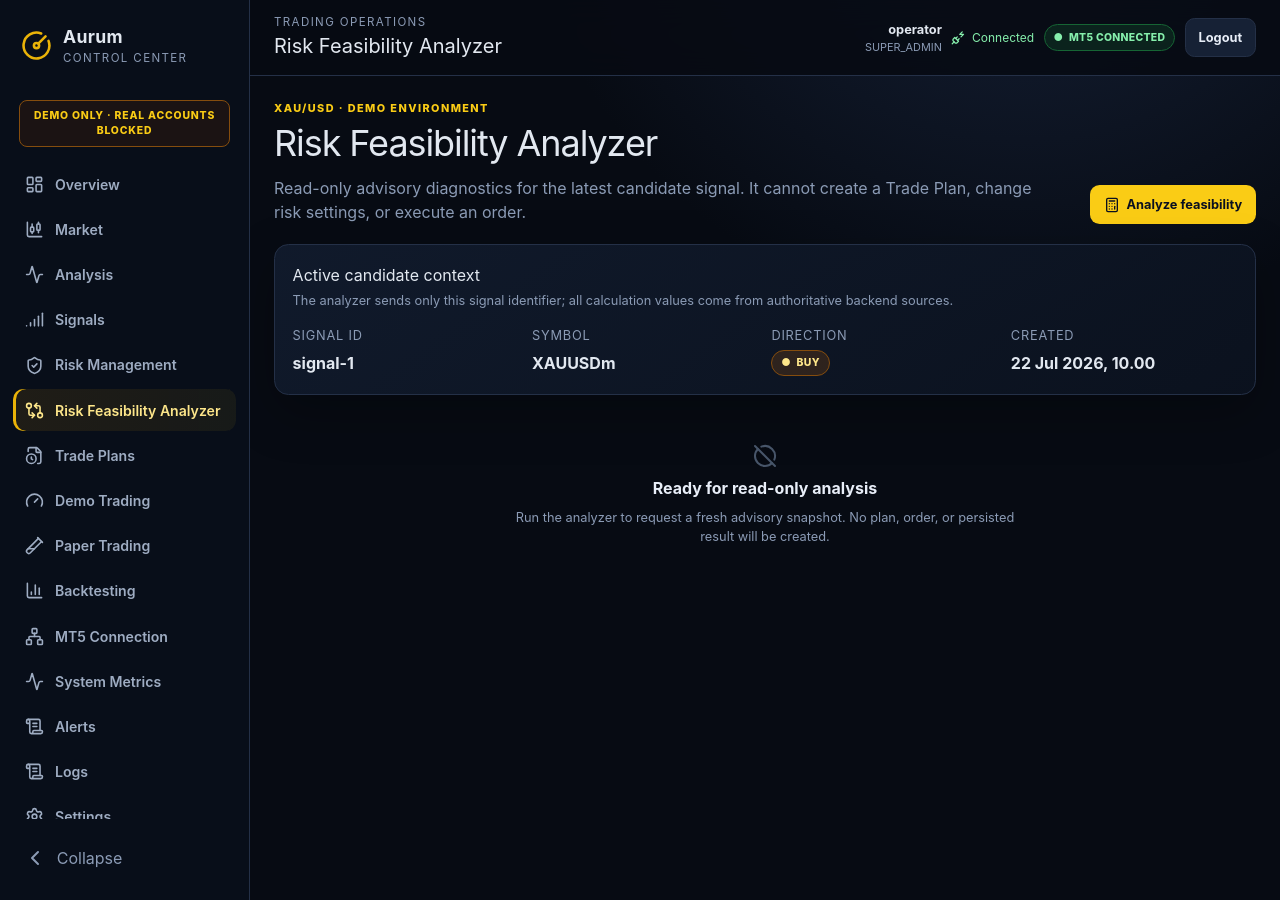
risk feasibility integration boundaries › renders a fresh FEASIBLE result with an explicit authoritative-flow caveat
Click the button "Analyze feasibility" at (1173, 204), box [1090,185,1256,224]
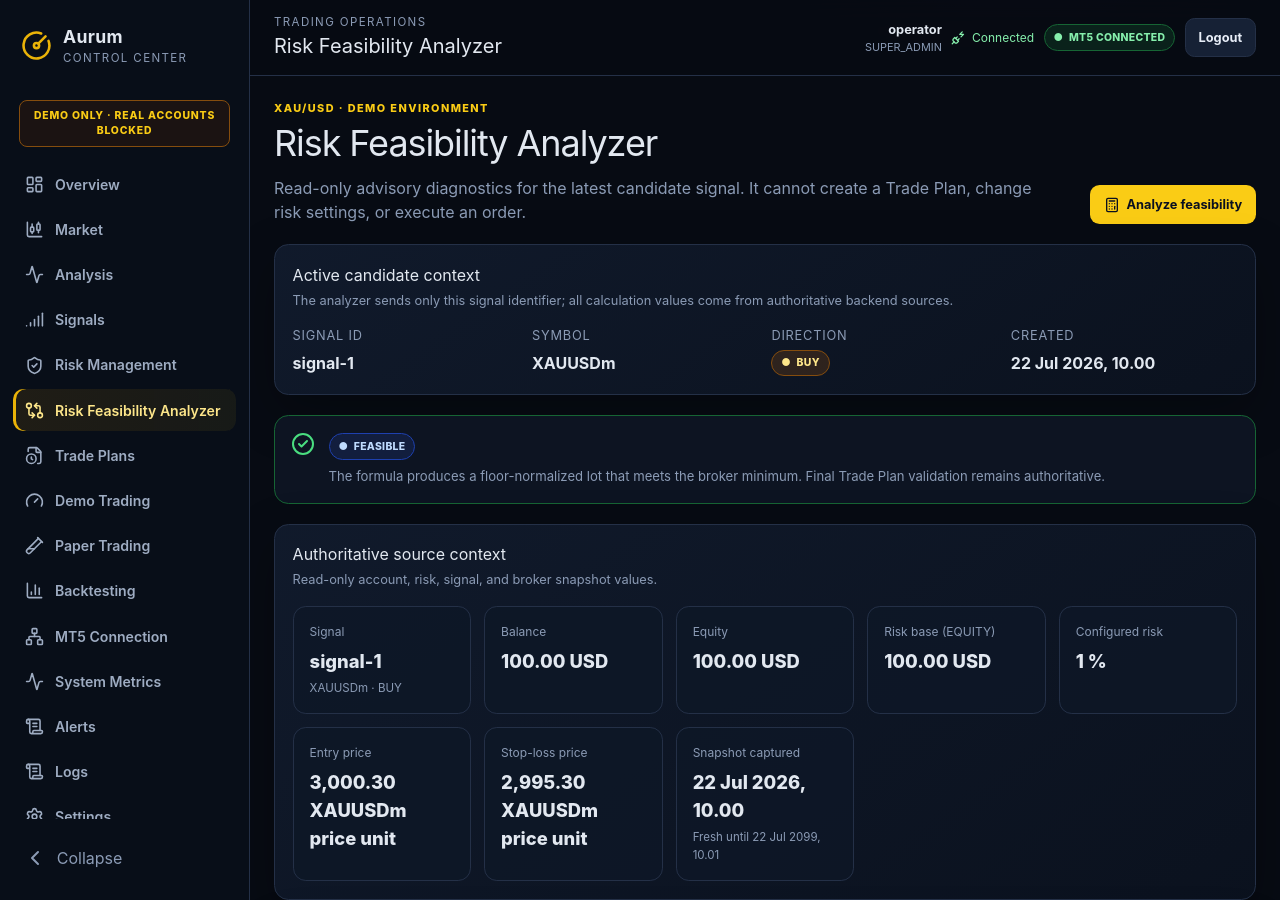
Expected: the message shows "FEASIBLE", [354,440,405,453]
Expected: the message shows "Final Trade Plan validation remains authoritative", [329,468,1105,484]
